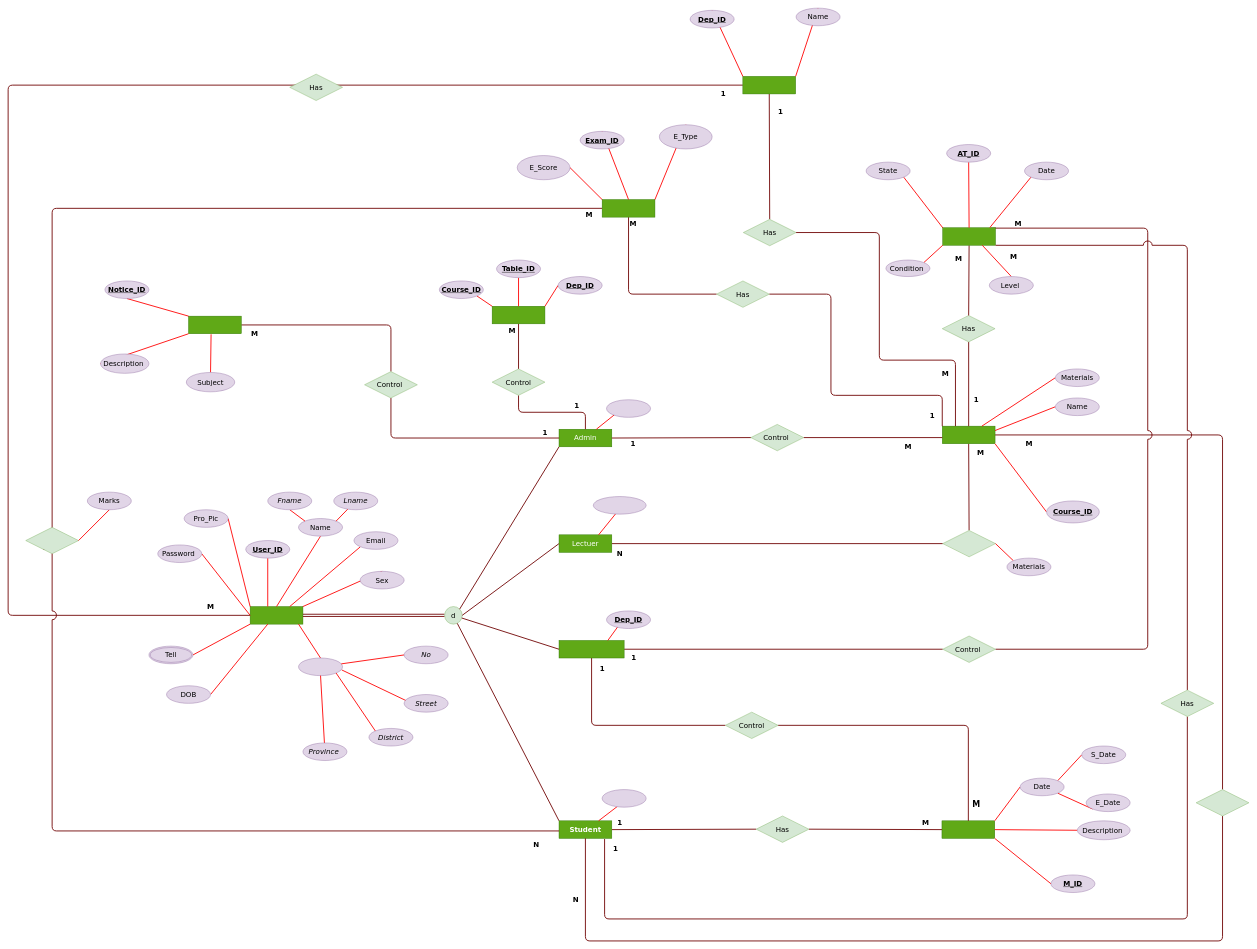
This 1257x949 diagram has some shape labels left out. The shapes that lost their labels are listed below. From the top down, each one's box as (x1, y1, x2, y2) in pixels, then its label:
(742, 76, 796, 94): Department
(602, 199, 655, 217): Examination
(942, 227, 996, 245): Attendance
(188, 316, 241, 334): Notice
(492, 306, 545, 324): Timetable
(606, 399, 651, 417): Role
(942, 426, 995, 444): Course
(593, 496, 646, 514): Lec_Position
(25, 527, 79, 554): Attend
(942, 530, 996, 557): Teach
(250, 606, 303, 624): User
(298, 658, 343, 676): Address
(559, 640, 624, 658): Technical Officer
(602, 789, 646, 807): Type
(1196, 789, 1249, 816): Register
(942, 820, 995, 838): Medical
